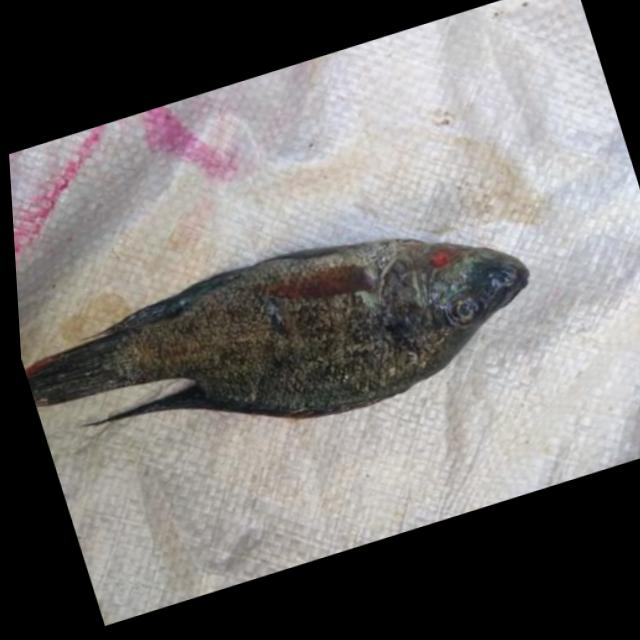Tilapia: (13, 183, 559, 505)
